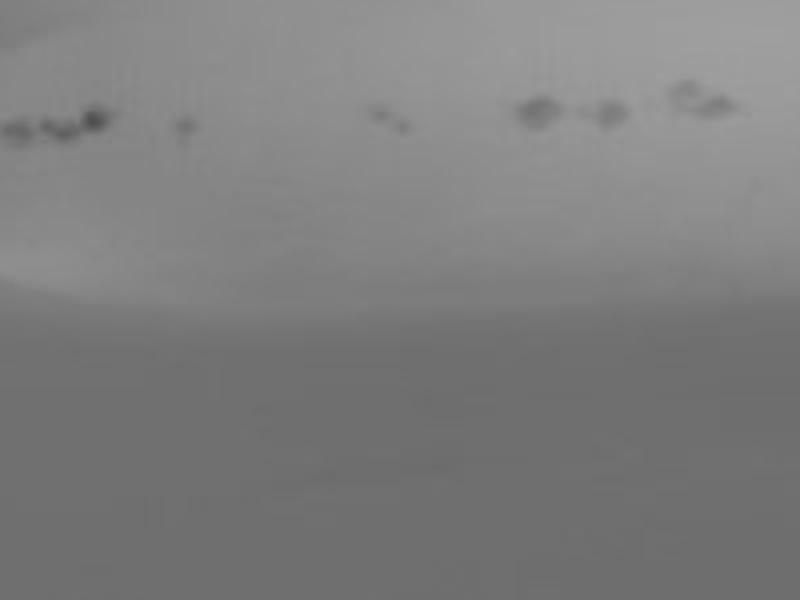defect: (517, 96, 560, 133), (37, 114, 78, 144), (594, 101, 627, 132), (2, 117, 33, 147), (81, 106, 112, 134), (695, 97, 730, 118), (174, 116, 198, 141), (669, 82, 694, 101), (396, 118, 411, 137), (371, 107, 387, 123)
